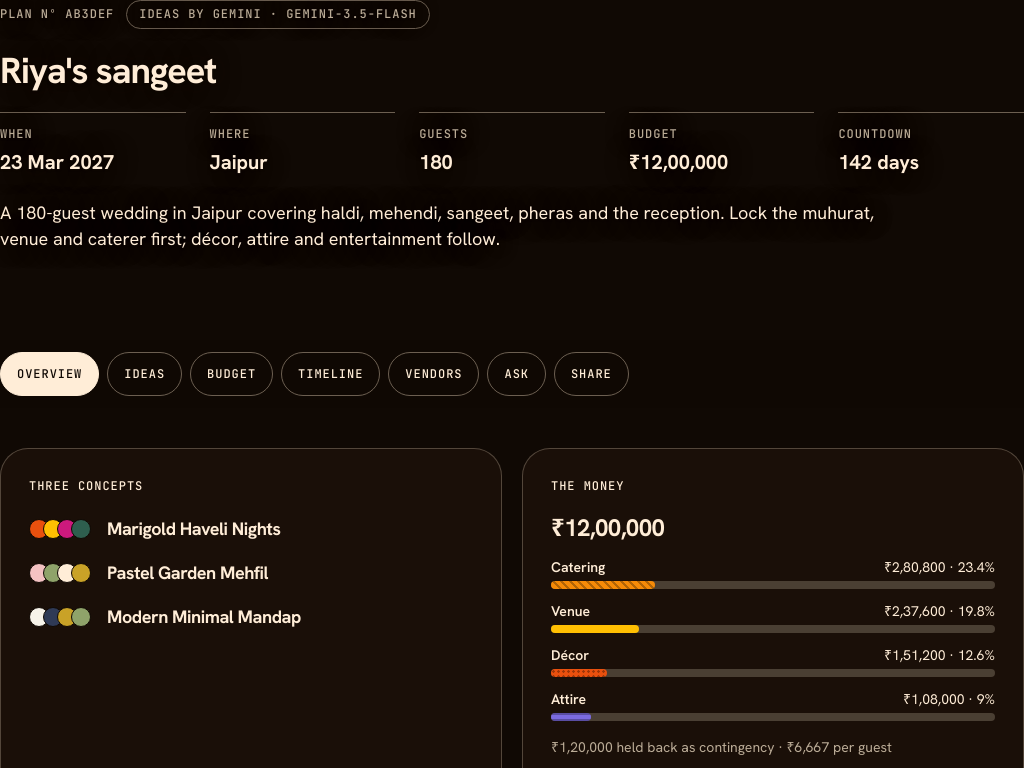
PlanView › records actual spend and shows the variance
Click the tab "Budget" at (232, 374), box [190,352,273,396]
(page scrolled)
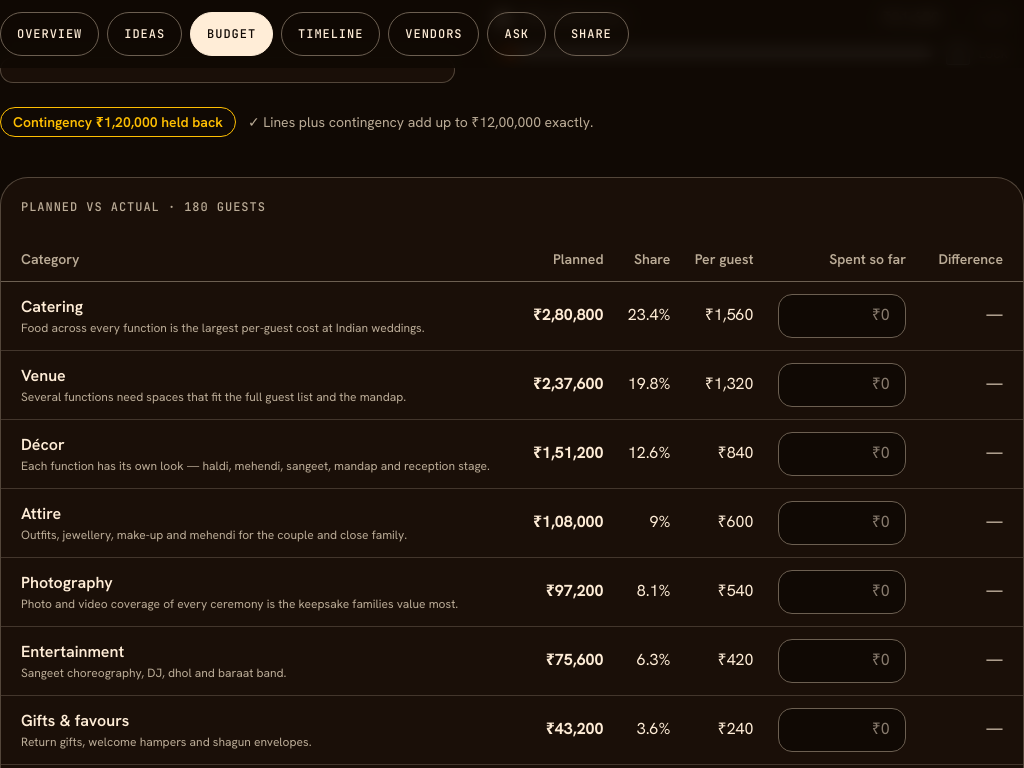
Type "9,99,999" into the field named "spent so far on venue" at (842, 384), box [778,362,906,406]
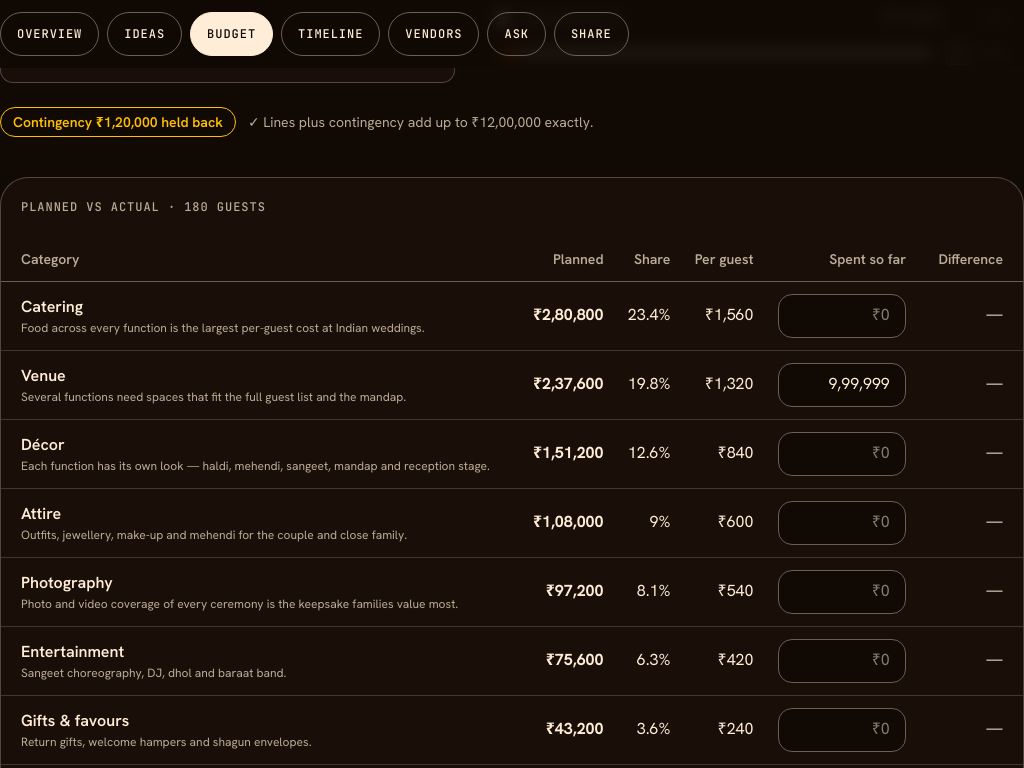
Leave the field named "spent so far on venue", box [778,362,906,406]
(page scrolled)
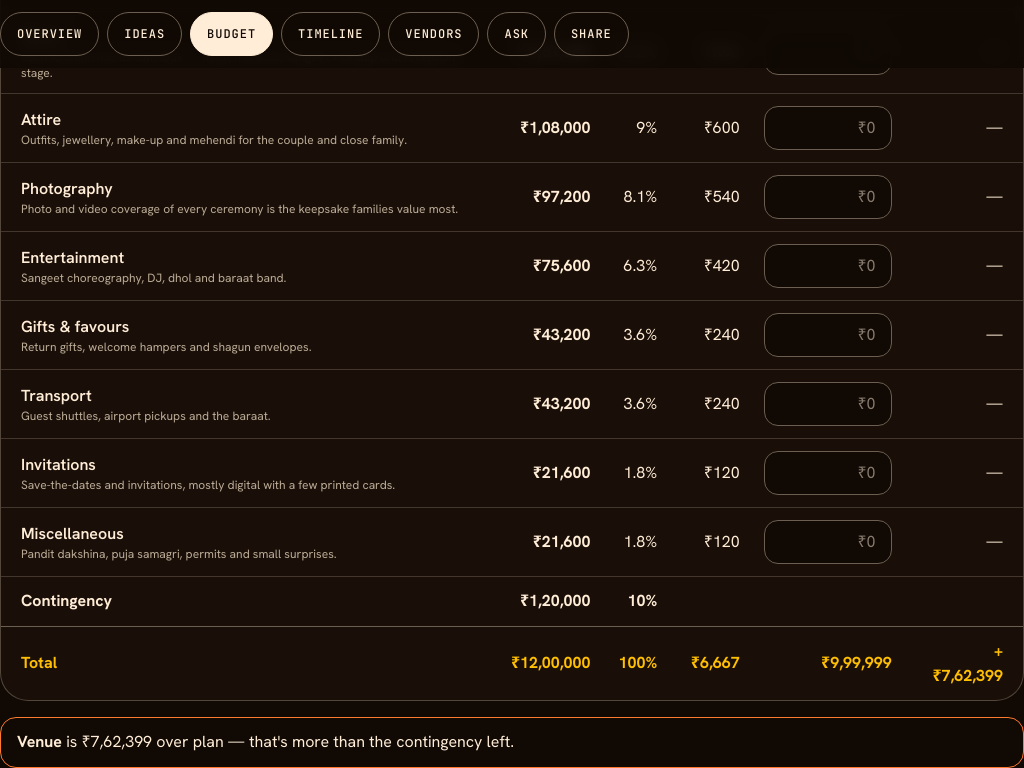
Expected: the text "Venue" is shown, [17,731,62,752]
